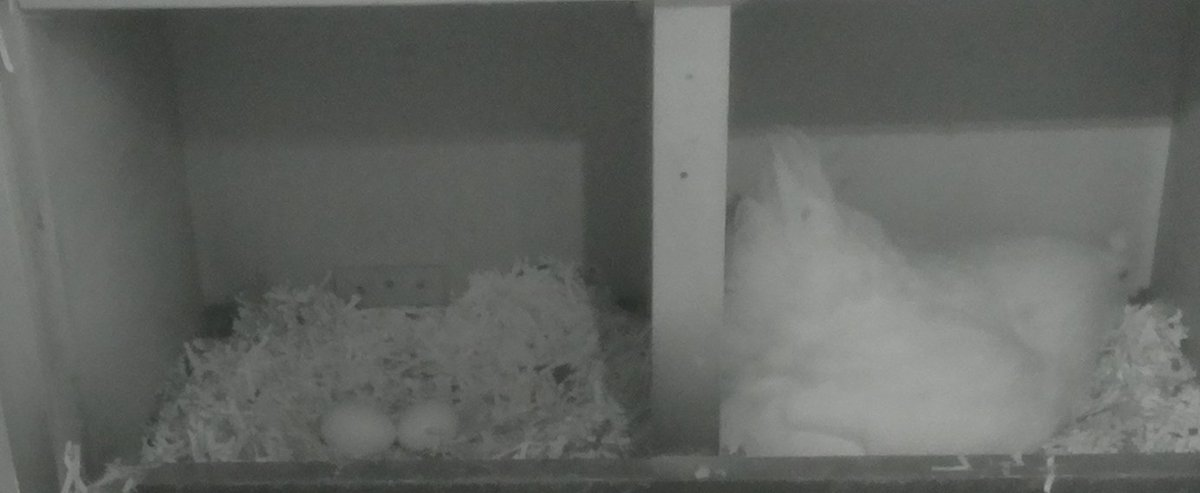egg: (737, 107, 1139, 451), (312, 399, 405, 462), (390, 388, 476, 456)
